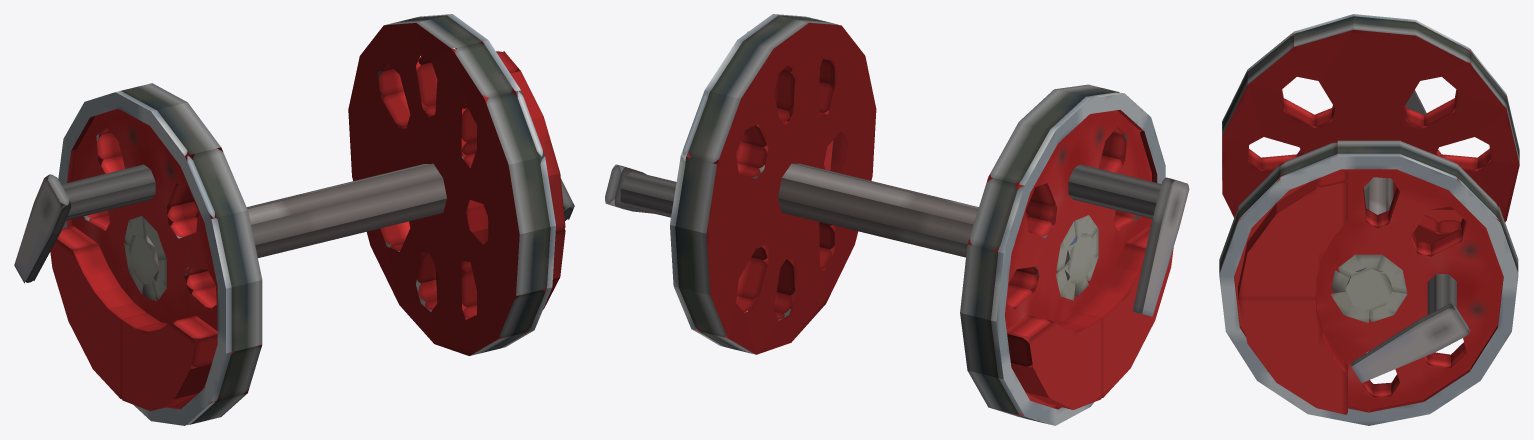
Rendered from main_drive_wheel.obj.
3 renders of one model, left to right at view 1: azimuth 30°, elevation 25°; view 2: azimuth 150°, elevation 25°; view 3: azimuth 270°, elevation 25°, orthographic. The views are drawn at different scales.
Visible parts, largest first — view 1: cylinder; view 2: cylinder; view 3: cylinder.
Boxes of the visible parts, x1=… form: cylinder: x1=14, y1=14, x2=574, y2=425; cylinder: x1=605, y1=14, x2=1189, y2=425; cylinder: x1=1219, y1=14, x2=1519, y2=425.
Size of the model in its own units: 2.66 by 1.53 by 1.53.
